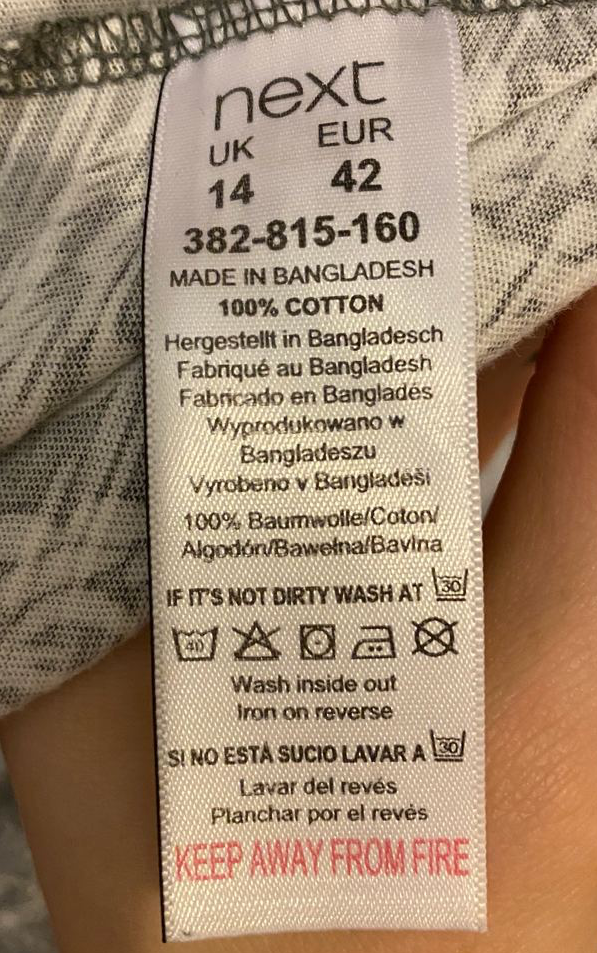do_not_bleach: (227, 618, 287, 667)
do_not_dry_clean: (407, 612, 464, 661)
ironing_at_med_temp: (350, 619, 401, 666)
tumble_drying_low_temps: (295, 620, 340, 662)
wash_at_or_below_30_mild_fine_wash: (427, 724, 473, 769), (428, 563, 475, 606)
wash_at_or_below_40: (171, 620, 227, 667)
